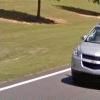Car: (65, 18, 100, 88)
